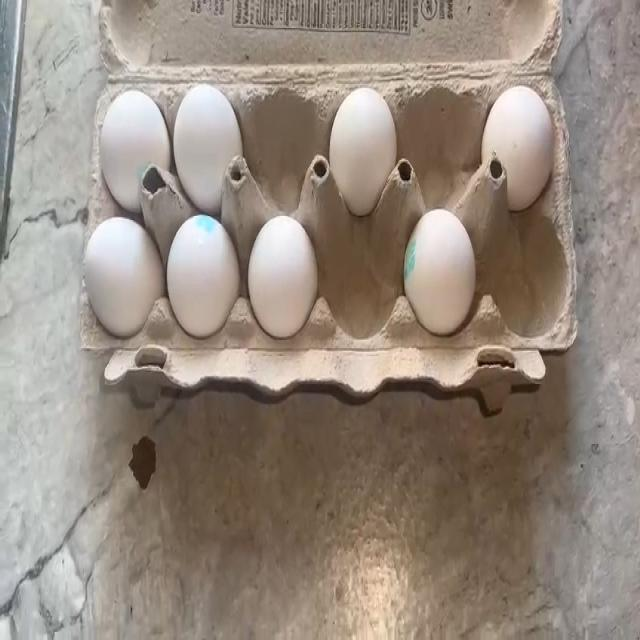Egg: (94, 85, 167, 188), (336, 95, 404, 199), (86, 222, 158, 318), (250, 221, 314, 327), (479, 86, 546, 185), (403, 218, 468, 318), (178, 89, 233, 190), (175, 233, 232, 322)
